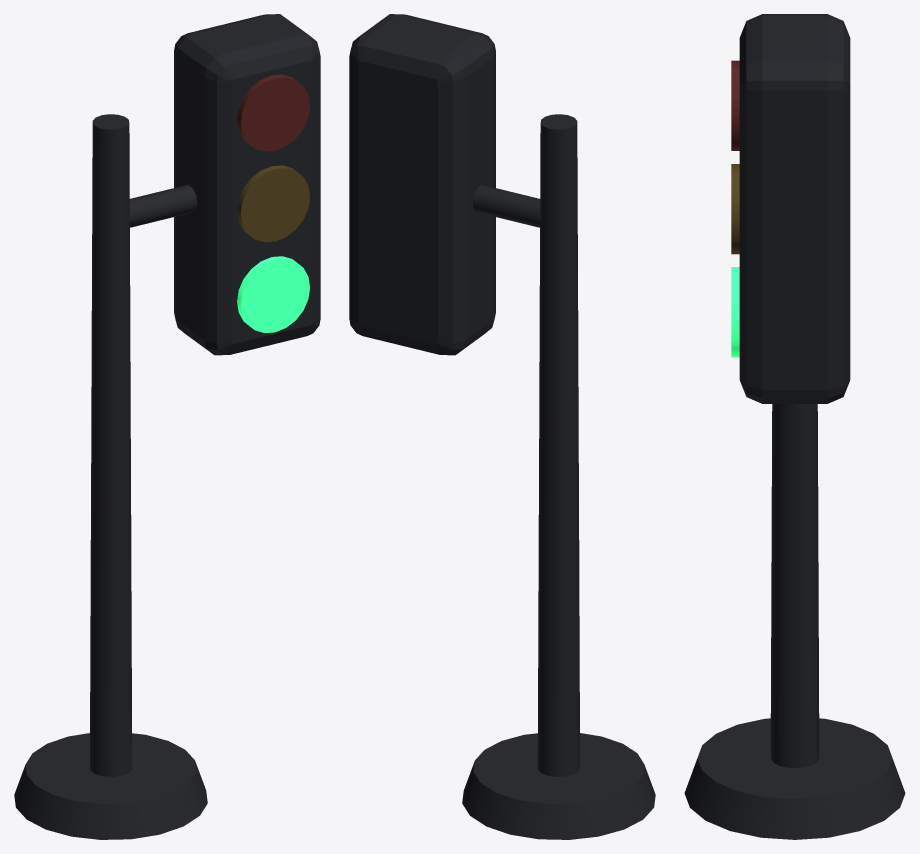
Rendered from traffic_light_green.glb.
3 views of the same model, side by side, from view 1: azimuth 30°, elevation 25°; view 2: azimuth 150°, elevation 25°; view 3: azimuth 270°, elevation 25° (orthographic). The views are drawn at different scales.
Parts seen in each view (by area): view 1: HeadBox, Pole, Base, Lamp_Yellow, Lamp_Green, Lamp_Red, Arm; view 2: HeadBox, Pole, Base, Arm; view 3: HeadBox, Base, Pole, Lamp_Red, Lamp_Yellow, Lamp_Green.
Part boxes in pixels (left/top/right/bottom): HeadBox: left=174, top=14, right=320, bottom=355; Pole: left=90, top=114, right=132, bottom=776; Base: left=14, top=733, right=207, bottom=839; Lamp_Yellow: left=237, top=165, right=309, bottom=242; Lamp_Green: left=237, top=256, right=309, bottom=332; Lamp_Red: left=237, top=74, right=309, bottom=151; Arm: left=128, top=185, right=197, bottom=227; HeadBox: left=349, top=14, right=495, bottom=355; Pole: left=537, top=114, right=579, bottom=776; Base: left=462, top=733, right=655, bottom=839; Arm: left=472, top=185, right=541, bottom=227; HeadBox: left=739, top=14, right=850, bottom=403; Base: left=684, top=718, right=905, bottom=839; Pole: left=770, top=404, right=819, bottom=767; Lamp_Red: left=731, top=60, right=739, bottom=150; Lamp_Yellow: left=731, top=164, right=739, bottom=254; Lamp_Green: left=731, top=267, right=739, bottom=357.
Bounding box in the file's own units: 1.12 × 2.82 × 0.68.
